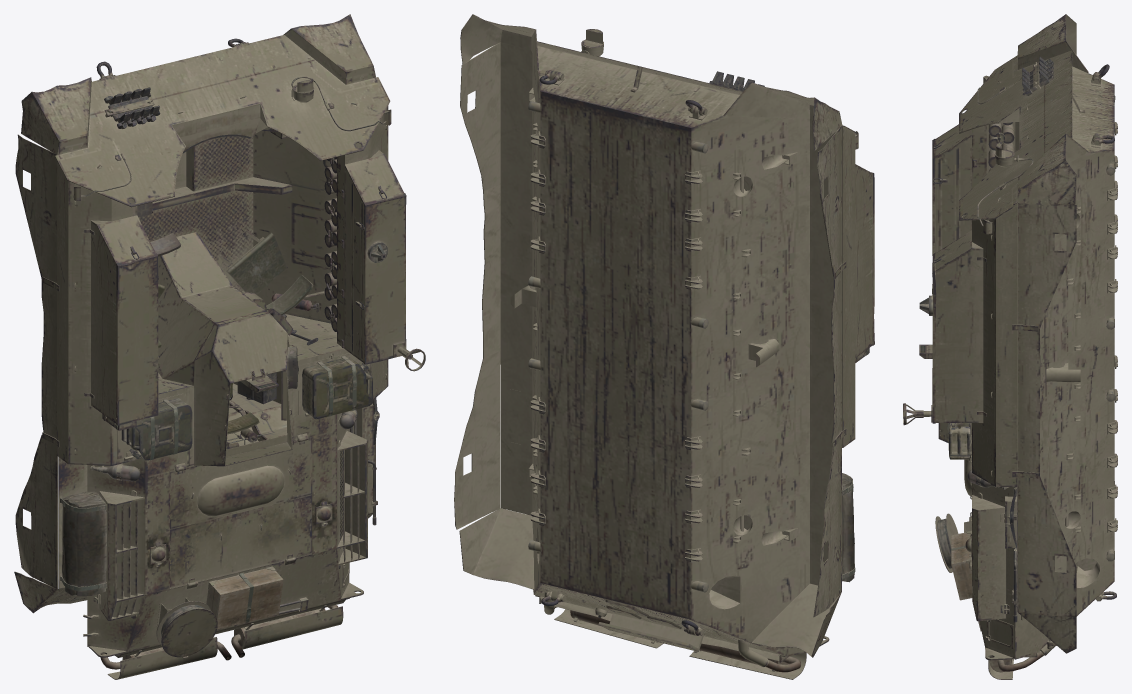
Rendered from Hull.glb.
3 renders of one model, left to right at view 1: azimuth 30°, elevation 25°; view 2: azimuth 150°, elevation 25°; view 3: azimuth 270°, elevation 25°, orthographic. The views are drawn at different scales.
Parts seen in each view (by area): view 1: set_0_group_0; view 2: set_0_group_0; view 3: set_0_group_0.
Part boxes in pixels (x1,y1,x2,y2): set_0_group_0: (14,14,425,679); set_0_group_0: (454,14,874,679); set_0_group_0: (903,14,1117,679).
Size of the model in its own units: 2.72 by 4.37 by 1.56.
1 material, 1 textured.
